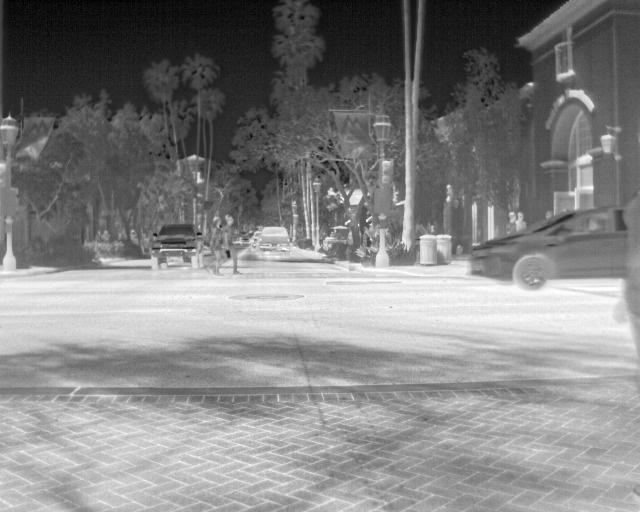bicycle: (465, 205, 624, 289), (148, 223, 208, 272), (255, 224, 293, 258)
empty: (219, 216, 247, 276), (200, 214, 223, 273), (504, 209, 520, 237), (515, 211, 530, 231), (99, 228, 112, 242), (92, 228, 102, 242)
